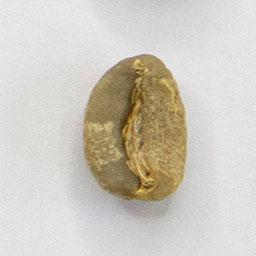longberry: (80, 50, 190, 204)
